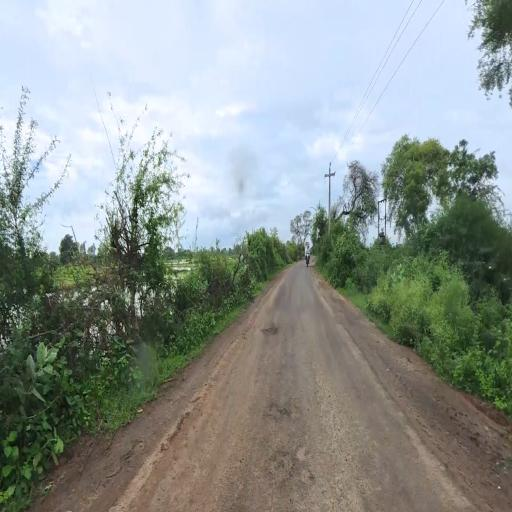ravelling: (256, 354, 314, 512)
